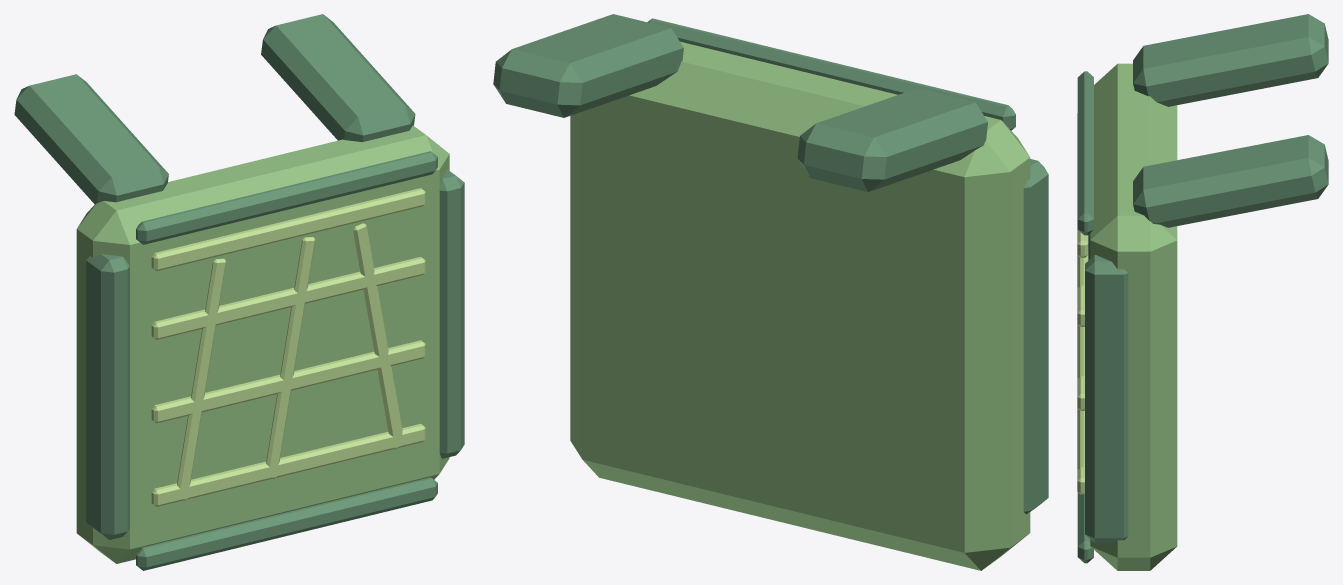
The model's file is PlantFiberChestArmor.glb.
The picture shows the model from 3 angles, left to right: view 1: azimuth 30°, elevation 25°; view 2: azimuth 150°, elevation 25°; view 3: azimuth 270°, elevation 25°; orthographic projection. The views are drawn at different scales.
Visible parts, largest first — view 1: ChestShell, ChestSideWrap_L, ChestShoulderAnchor_L, ChestShoulderAnchor_R, ChestTopRim, ChestBottomRim, ChestSideWrap_R, PlantFiberWovenBand_03, PlantFiberWovenBand_02, PlantFiberWovenBand_00, PlantFiberWovenBand_01, PlantFiberWovenStrand_01 (+2 smaller); view 2: ChestShell, ChestShoulderAnchor_L, ChestShoulderAnchor_R, ChestSideWrap_L, ChestTopRim; view 3: ChestShell, ChestShoulderAnchor_R, ChestShoulderAnchor_L, ChestSideWrap_R, ChestTopRim, PlantFiberWovenStrand_02, ChestBottomRim, PlantFiberWovenBand_02, PlantFiberWovenBand_03, PlantFiberWovenBand_01.
Part boxes in pixels (left/top/right/bottom): ChestShell: left=76, top=125, right=449, bottom=563; ChestSideWrap_L: left=86, top=254, right=129, bottom=539; ChestShoulderAnchor_L: left=14, top=74, right=168, bottom=204; ChestShoulderAnchor_R: left=261, top=14, right=415, bottom=141; ChestTopRim: left=136, top=151, right=437, bottom=244; ChestBottomRim: left=136, top=477, right=437, bottom=570; ChestSideWrap_R: left=439, top=169, right=464, bottom=458; PlantFiberWovenBand_03: left=151, top=188, right=425, bottom=271; PlantFiberWovenBand_02: left=151, top=257, right=425, bottom=339; PlantFiberWovenBand_00: left=151, top=423, right=425, bottom=506; PlantFiberWovenBand_01: left=151, top=340, right=425, bottom=423; PlantFiberWovenStrand_01: left=266, top=237, right=315, bottom=479; ChestShell: left=570, top=41, right=1030, bottom=570; ChestShoulderAnchor_L: left=797, top=88, right=987, bottom=191; ChestShoulderAnchor_R: left=493, top=14, right=683, bottom=117; ChestSideWrap_L: left=1023, top=159, right=1048, bottom=514; ChestTopRim: left=647, top=18, right=1015, bottom=130; ChestShell: left=1090, top=63, right=1177, bottom=570; ChestShoulderAnchor_R: left=1133, top=135, right=1328, bottom=227; ChestShoulderAnchor_L: left=1133, top=14, right=1328, bottom=106; ChestSideWrap_R: left=1085, top=255, right=1128, bottom=542; ChestTopRim: left=1077, top=71, right=1093, bottom=235; PlantFiberWovenStrand_02: left=1077, top=255, right=1083, bottom=469; ChestBottomRim: left=1077, top=492, right=1093, bottom=563; PlantFiberWovenBand_02: left=1077, top=255, right=1088, bottom=326; PlantFiberWovenBand_03: left=1077, top=113, right=1088, bottom=257; PlantFiberWovenBand_01: left=1077, top=327, right=1084, bottom=410.
Bounding box in the file's own units: 0.775 × 0.8288 × 0.4617.
